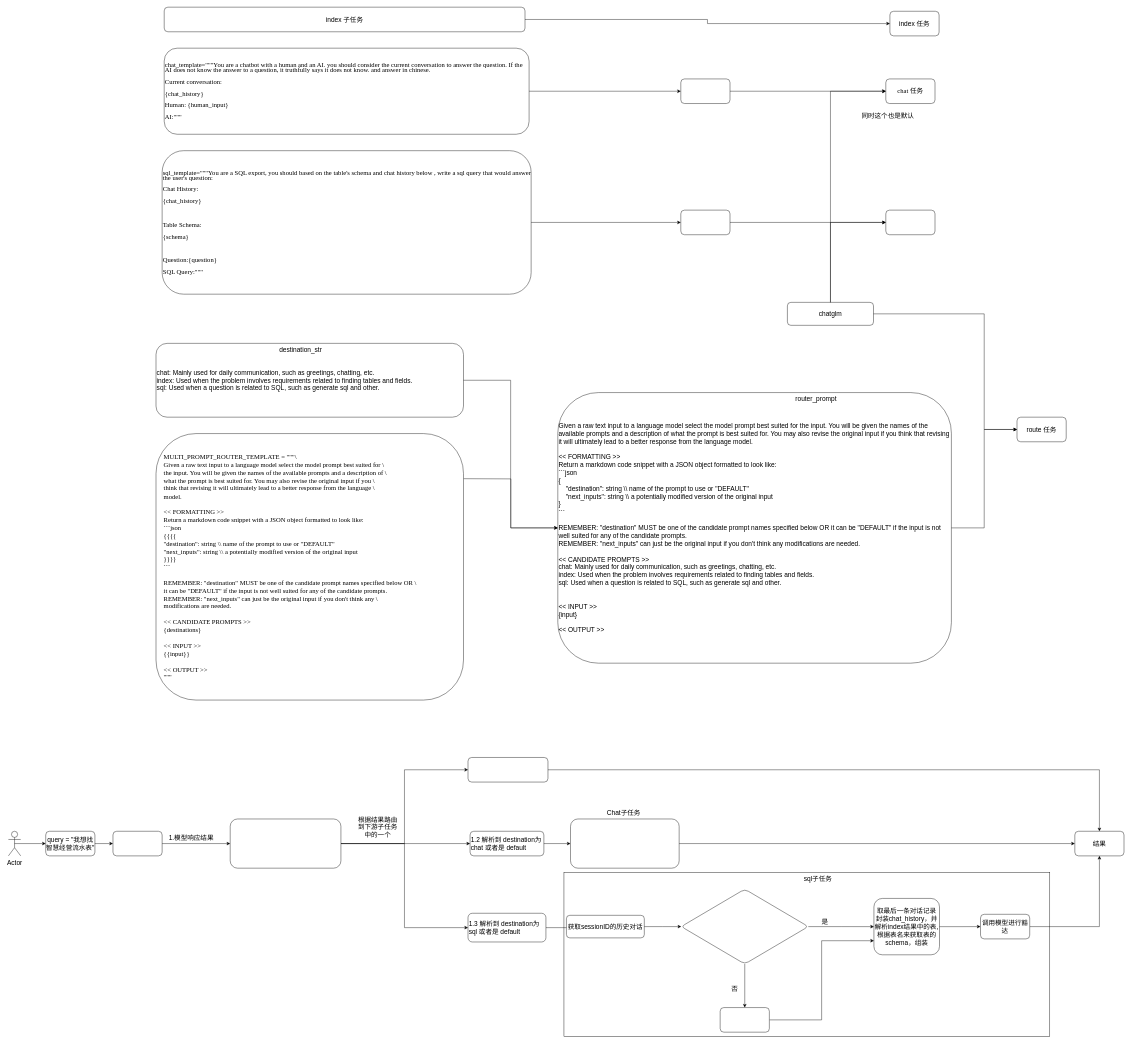
Image size: 1131x1043. Some labels were removed from this diagram. Here are the shapes that lost their labels. From the top down, the centre of each, then its label:
[705,91]: chat prompt
[705,222]: sql_prompt
[910,222]: sql 任务
[508,769]: 1.1 解析到destination 为index，调用index任务找表
[137,843]: Route 子任务
[285,843]: { "destination": "index" "next_inputs": "我想找智慧经营流水表" }
[624,843]: 根据sessionID查询历史对话记录，封装chat_history, 调用模型进行回答
[744,926]: 判断对话中最近一条结果是否是index结果
[744,1019]: 先根据问题去index任务找表
